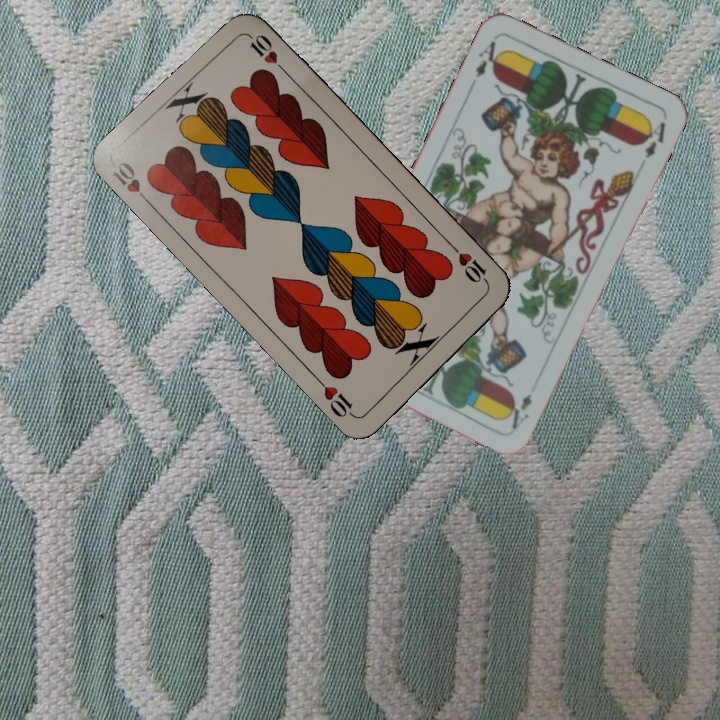EA: (471, 36, 506, 81), (505, 389, 535, 432)
H10: (108, 158, 155, 209), (447, 241, 492, 289)
